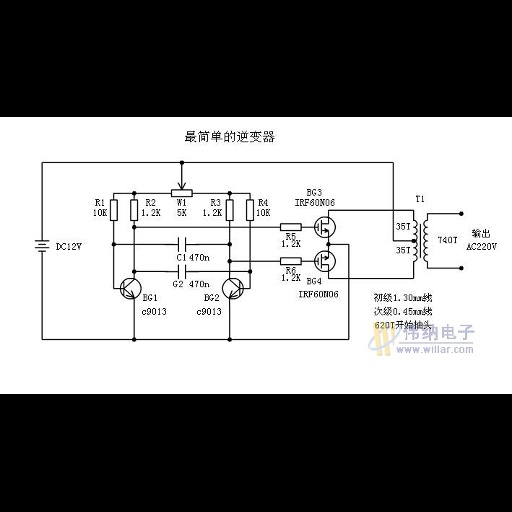battery: (32, 237, 50, 255)
capacitor: (174, 235, 190, 253), (175, 263, 189, 280)
firstresistance: (107, 197, 121, 223), (128, 197, 141, 223), (224, 198, 237, 223), (243, 198, 256, 222), (278, 222, 305, 233), (278, 256, 305, 267)
npn: (228, 279, 242, 299), (122, 280, 136, 297)
transformer: (411, 215, 429, 266)
